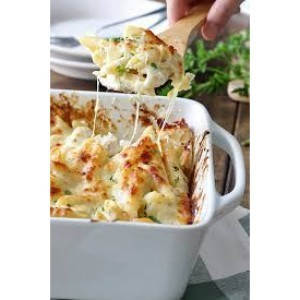cheese_brain food: (62, 117, 174, 217)
